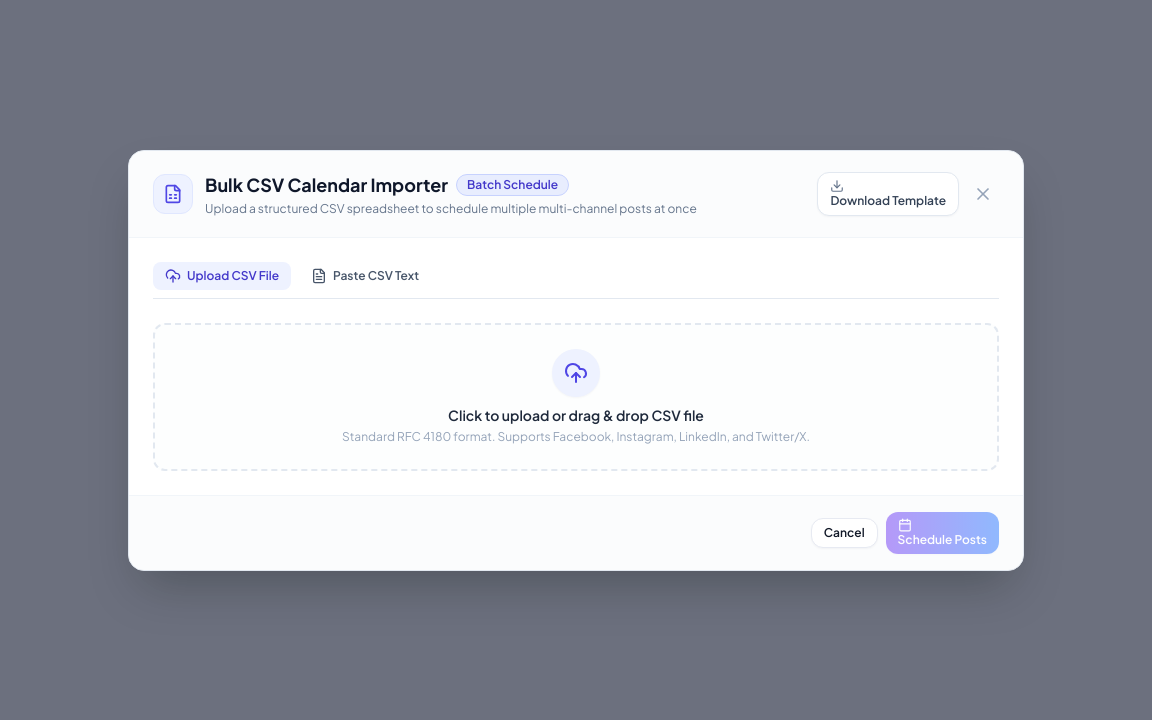
Scenario: BulkScheduleModal Component › should commit valid posts when schedule button is clicked
Click the button "Paste CSV Text": (365, 276) top-left (299, 262), bottom-right (431, 290)
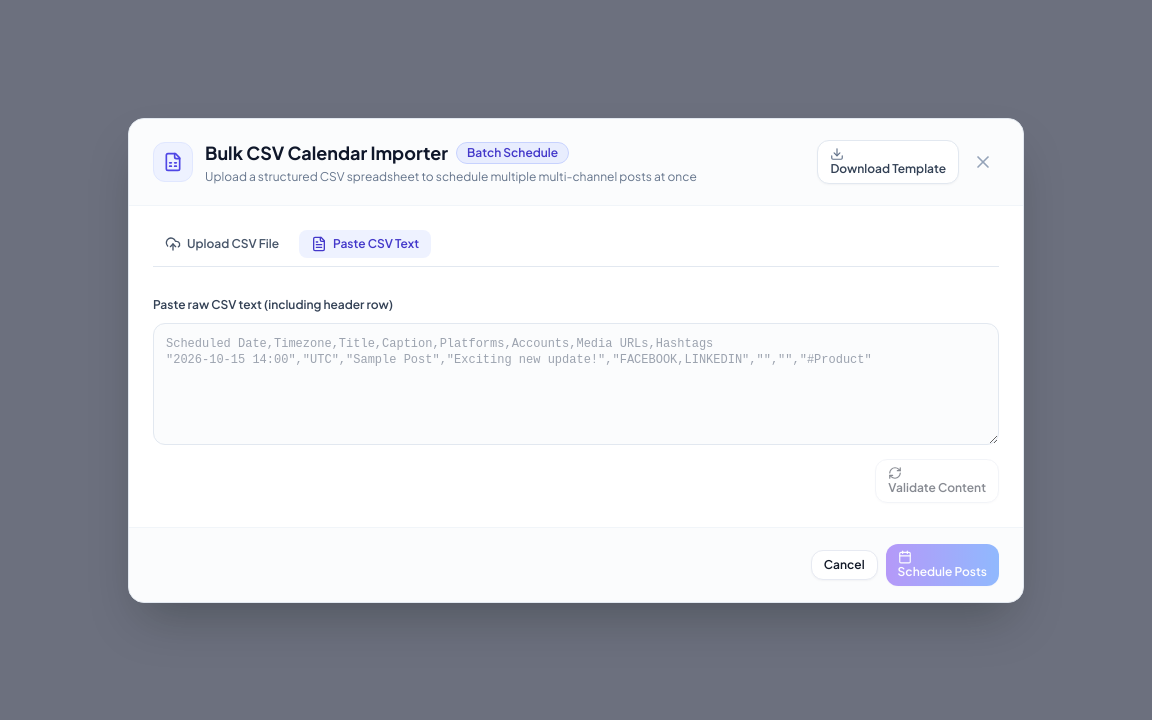
Replace the text in the text box with "test,csv,content": (576, 384) top-left (153, 322), bottom-right (999, 444)
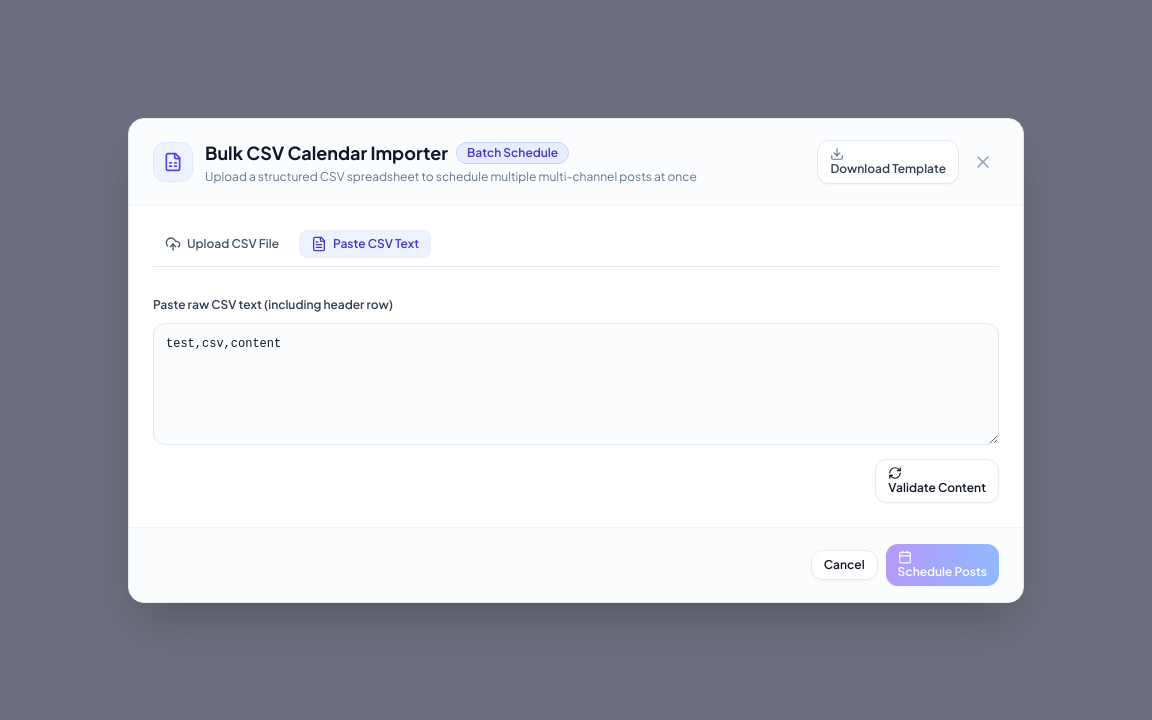
Click the button "Validate Content": (937, 480) top-left (875, 458), bottom-right (999, 502)
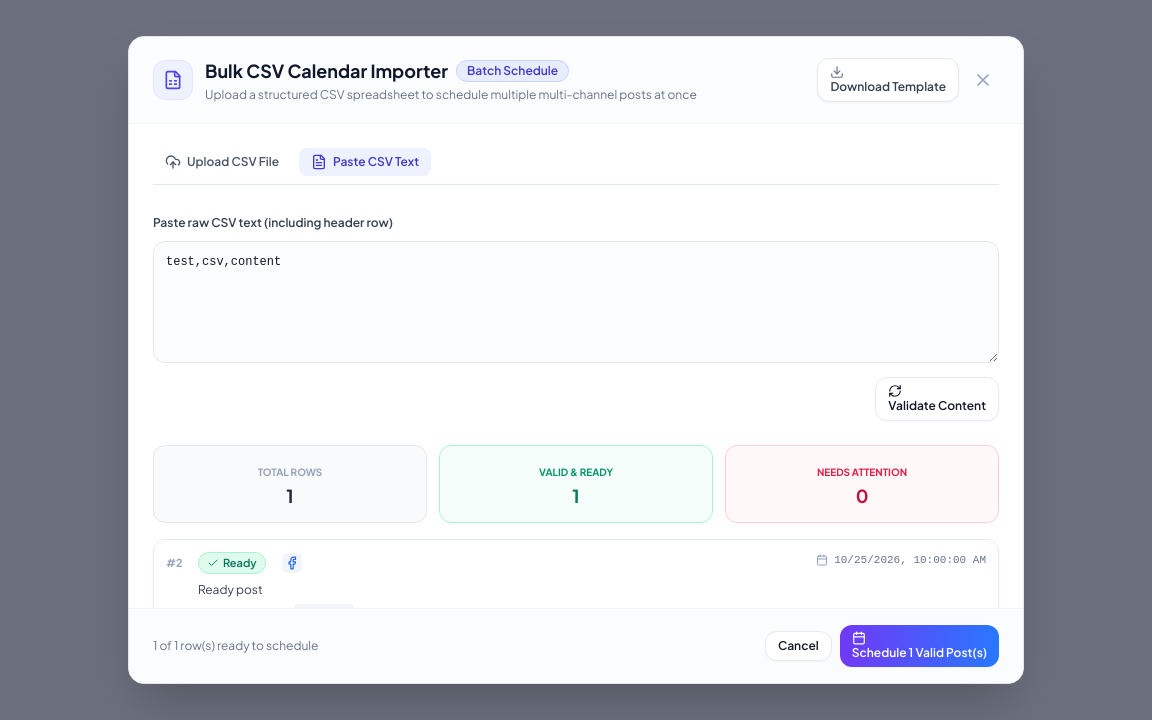
Now the text "Schedule 1 Valid Post(s)" is shown, box top-left (852, 645), bottom-right (987, 660)
Click the button "Schedule 1 Valid Post(s)": (919, 646) top-left (840, 625), bottom-right (999, 667)
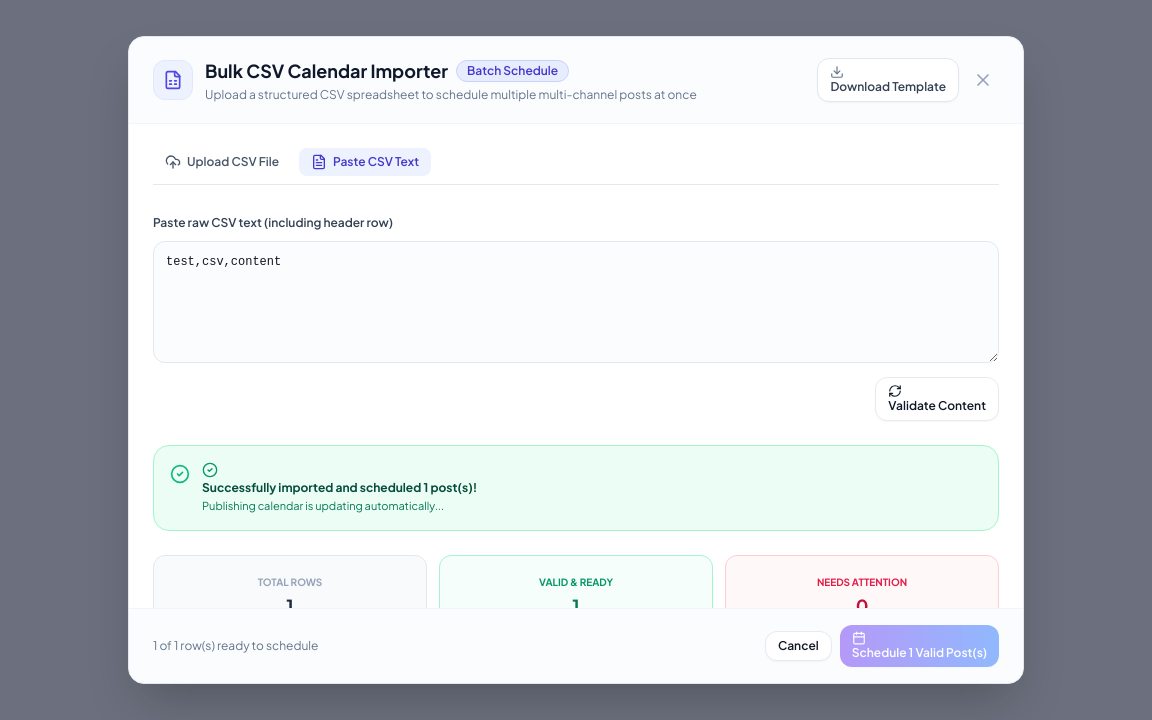
Now the text "Successfully imported and scheduled 1 post(s)!" is shown, box top-left (202, 480), bottom-right (477, 495)
